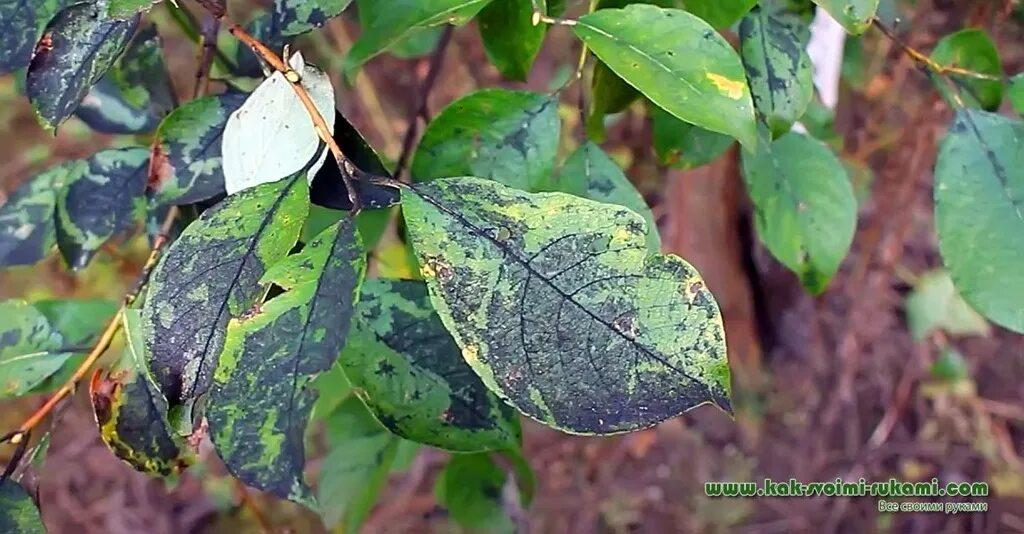soot dew: (414, 185, 732, 435), (212, 220, 362, 503), (150, 235, 271, 407), (378, 307, 499, 431), (30, 2, 142, 131), (68, 153, 148, 238), (115, 370, 184, 458), (162, 166, 226, 206), (769, 17, 800, 75), (647, 252, 694, 285), (194, 123, 225, 166), (165, 137, 192, 184), (767, 57, 793, 105), (394, 275, 428, 310), (219, 94, 248, 122)
